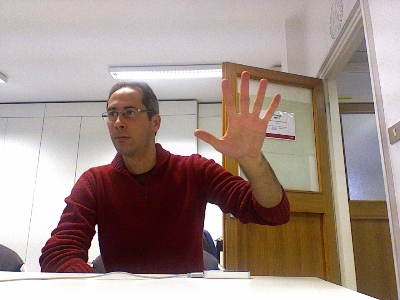布: (191, 69, 281, 161)
